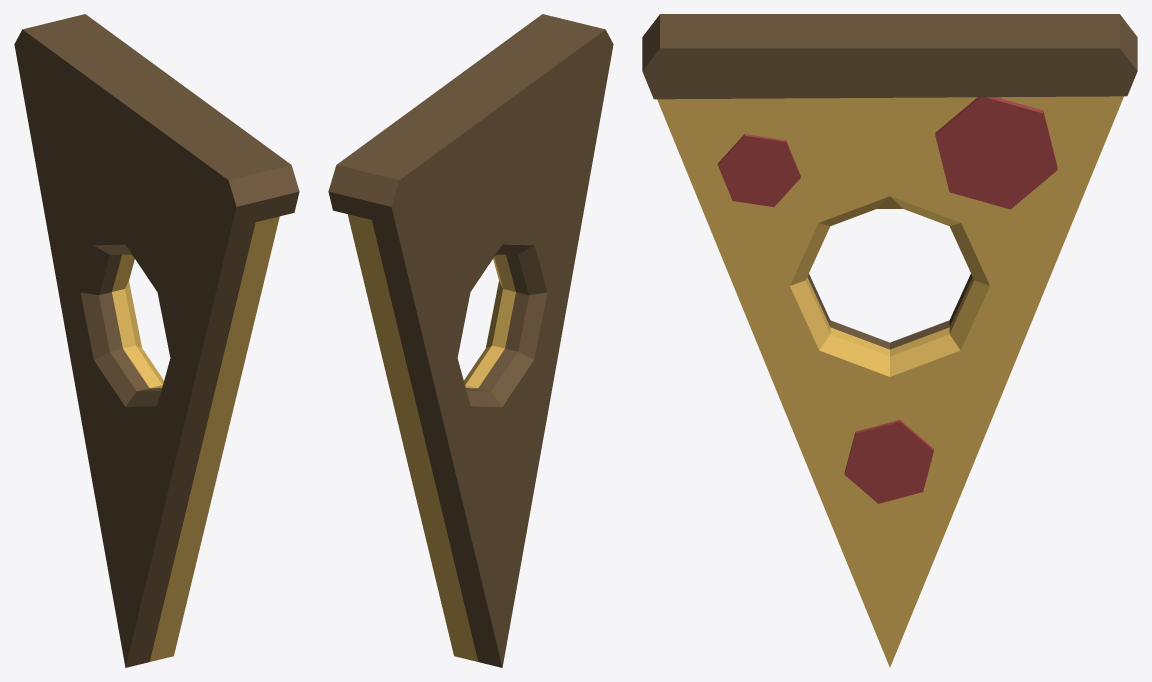
The model's file is Pizza Hat.glb.
3 renders of one model, left to right at view 1: azimuth 30°, elevation 25°; view 2: azimuth 150°, elevation 25°; view 3: azimuth 270°, elevation 25°, orthographic. The views are drawn at different scales.
Parts seen in each view (by area): view 1: PizzaHat_Cube.001; view 2: PizzaHat_Cube.001; view 3: PizzaHat_Cube.001.
Boxes of the visible parts, left/top/right/bottom form: PizzaHat_Cube.001: left=14, top=14, right=299, bottom=667; PizzaHat_Cube.001: left=328, top=14, right=613, bottom=667; PizzaHat_Cube.001: left=642, top=14, right=1137, bottom=667.
Size of the model in its own units: 0.1289 by 1.1 by 0.7866.
